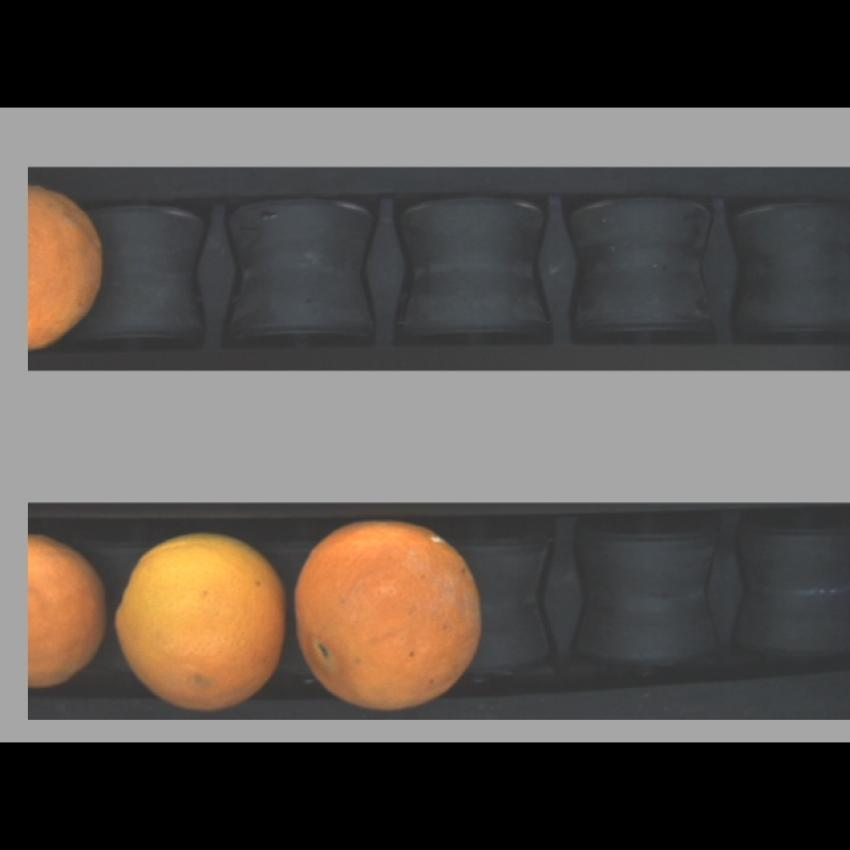Buen estado: (113, 525, 290, 716)
Mal estado: (291, 514, 488, 712), (29, 185, 111, 360), (28, 530, 112, 697)
